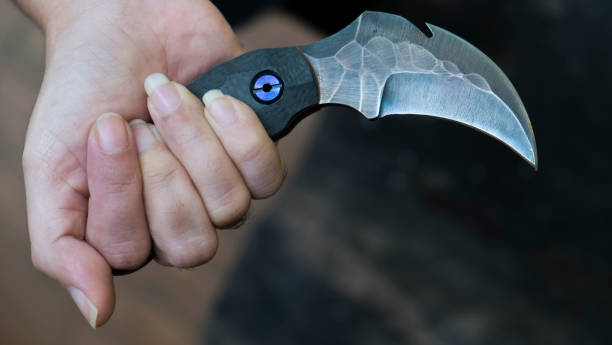knife: (187, 8, 538, 171)
